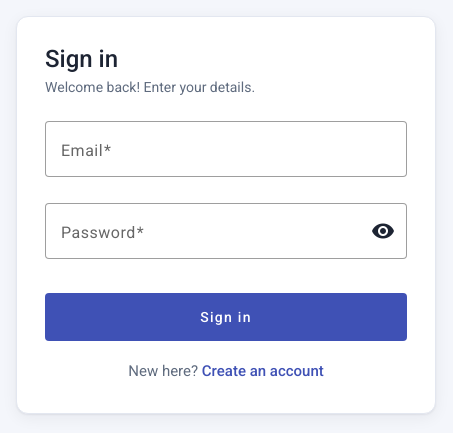
Test: LoginComponent › signing in › shows progress and blocks edits and resubmission while waiting
Type "ada@example.com" into the field labelled "Email" at point(226, 149), box [61, 137, 391, 161]
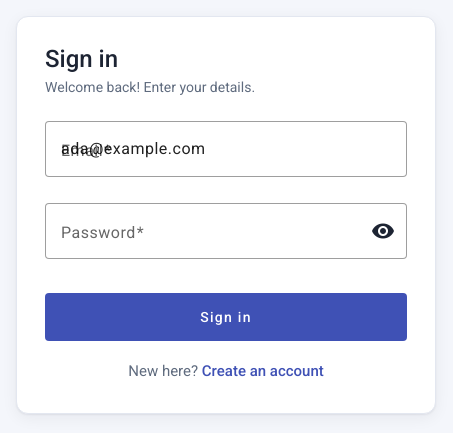
Type "secret1" into the password field labelled "Password" at point(208, 231), box [61, 219, 355, 243]
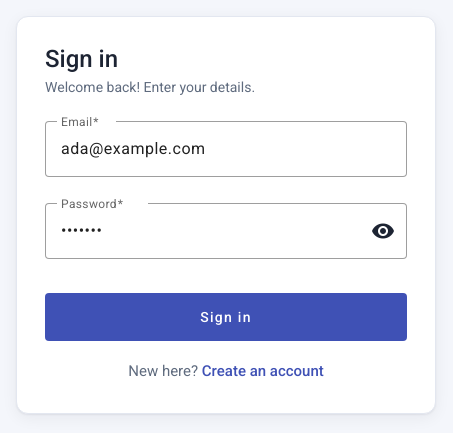
Click the submit button at point(226, 317), box [45, 293, 407, 341]
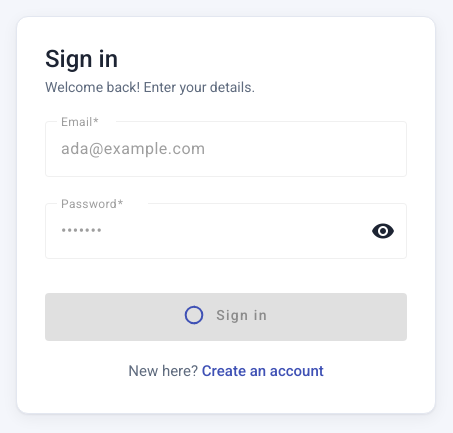
Expected: the submit button is disabled, [45, 293, 407, 341]
Expected: the progress indicator is shown, [184, 304, 204, 324]
